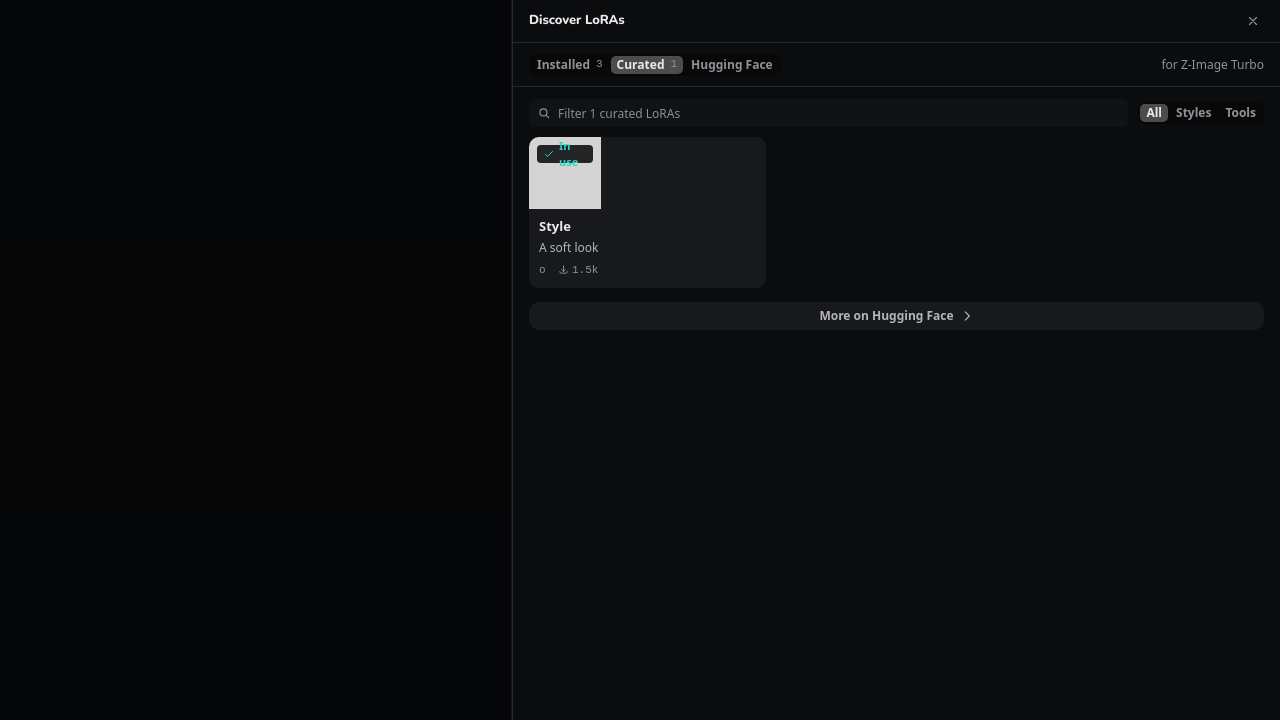
it: Discover LoRAs drawer: Installed › lists this model's LoRAs as tiles, a curated one like Curated, a download with what it kept, a file of your own by its name
Click the tab "Installed 3" at [570, 64], box [531, 56, 609, 74]
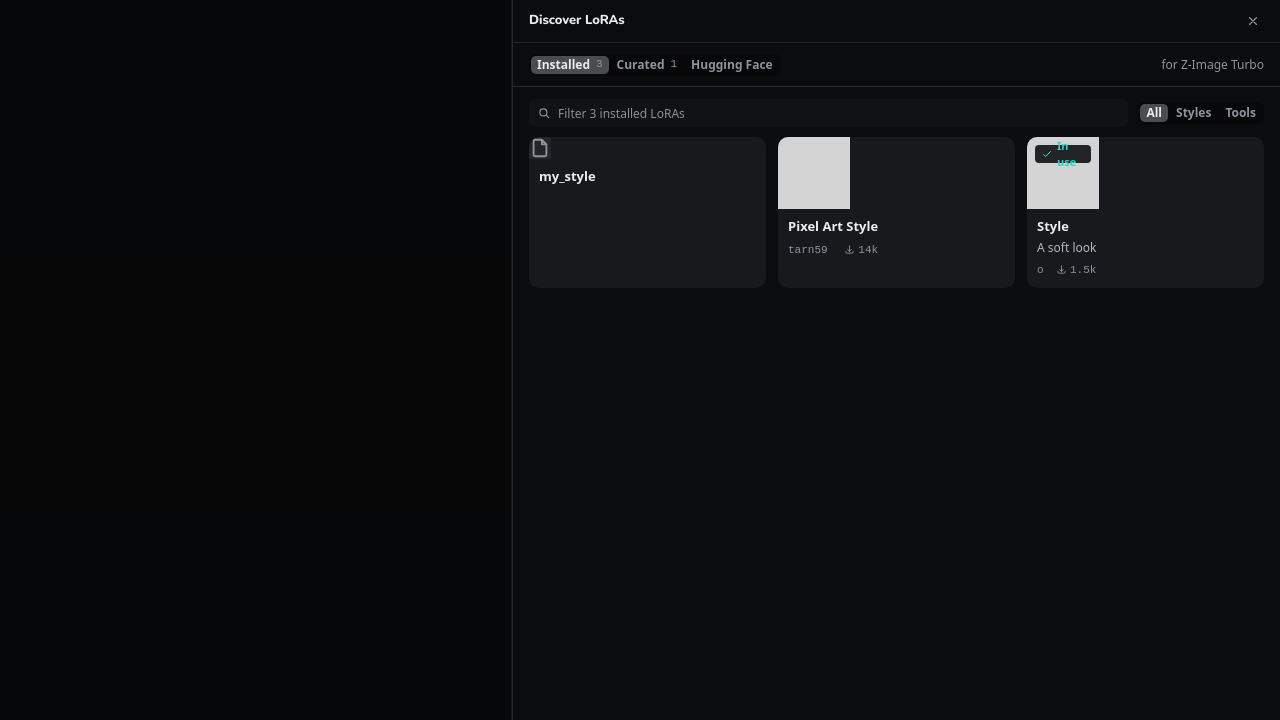
Check: the button with class "disc-card" shows "In use", box [1027, 137, 1264, 288]
Check: the number of buttons with class "disc-card" is 3, box [529, 137, 766, 288]; [778, 137, 1015, 288]; [1027, 137, 1264, 288]
